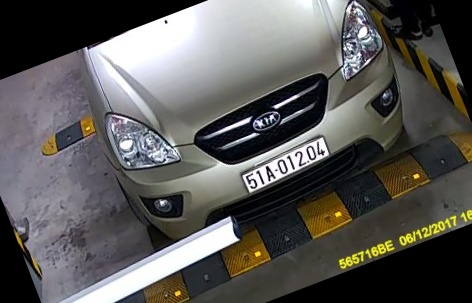plate: (237, 134, 330, 204)
